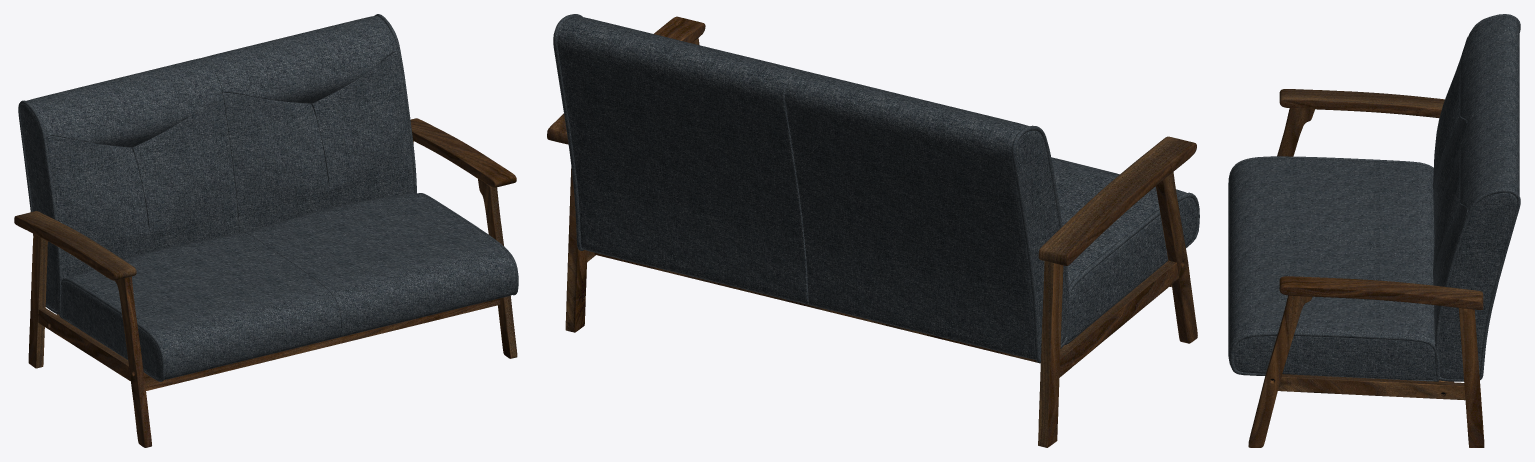
File: GOLV1777_v6_LOD2.obj
The picture shows the model from 3 angles, left to right: view 1: azimuth 30°, elevation 25°; view 2: azimuth 150°, elevation 25°; view 3: azimuth 270°, elevation 25°; orthographic projection. The views are drawn at different scales.
Parts seen in each view (by area): view 1: not_clear_obj_0_v6, not_clear_obj_1_v6; view 2: not_clear_obj_0_v6, not_clear_obj_1_v6; view 3: not_clear_obj_0_v6, not_clear_obj_1_v6.
Boxes of the visible parts, x1,y1,x2,y2 form: not_clear_obj_0_v6: (18, 14, 518, 381); not_clear_obj_1_v6: (14, 118, 517, 447); not_clear_obj_0_v6: (553, 14, 1199, 362); not_clear_obj_1_v6: (547, 16, 1197, 447); not_clear_obj_0_v6: (1228, 14, 1520, 381); not_clear_obj_1_v6: (1248, 89, 1484, 447).
Size of what is drawn, in the model's own units: 114 by 68.26 by 71.17.
3 materials, 2 textured.
